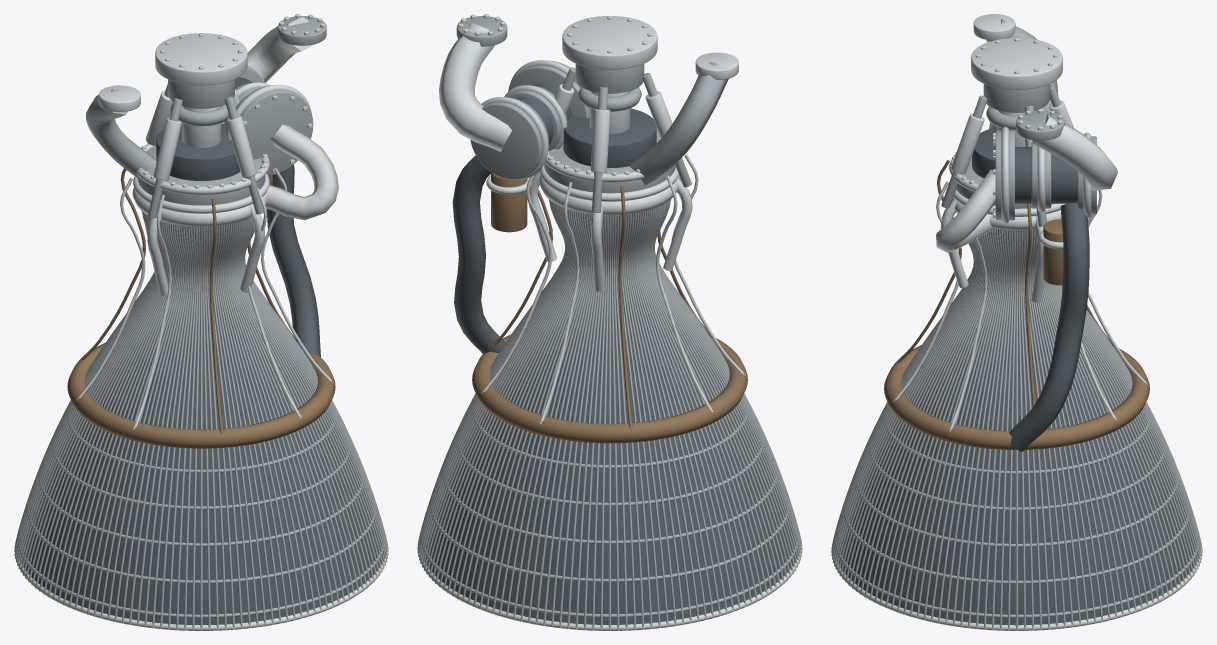
Rendered from F1_Engine.fbx.
3 views of the same model, side by side, from view 1: azimuth 30°, elevation 25°; view 2: azimuth 150°, elevation 25°; view 3: azimuth 270°, elevation 25° (orthographic). The views are drawn at different scales.
Visible parts, largest first — view 1: Geometry_BrushedSteel, Geometry_NozzleAlloy, Geometry_PipeSteel, Geometry_HeatTint; view 2: Geometry_BrushedSteel, Geometry_NozzleAlloy, Geometry_PipeSteel, Geometry_HeatTint; view 3: Geometry_BrushedSteel, Geometry_NozzleAlloy, Geometry_PipeSteel, Geometry_HeatTint.
Boxes of the visible parts, x1,y1,x2,y2 form: Geometry_BrushedSteel: (14,16,388,630); Geometry_NozzleAlloy: (22,77,380,624); Geometry_PipeSteel: (14,14,388,630); Geometry_HeatTint: (67,168,335,448); Geometry_BrushedSteel: (417,16,802,630); Geometry_NozzleAlloy: (425,83,794,624); Geometry_PipeSteel: (417,14,802,630); Geometry_HeatTint: (472,173,747,443); Geometry_BrushedSteel: (831,19,1202,630); Geometry_NozzleAlloy: (839,127,1194,625); Geometry_PipeSteel: (831,14,1202,630); Geometry_HeatTint: (884,160,1149,449).
Bounding box in the file's own units: 3.8 × 5.63 × 3.8.
